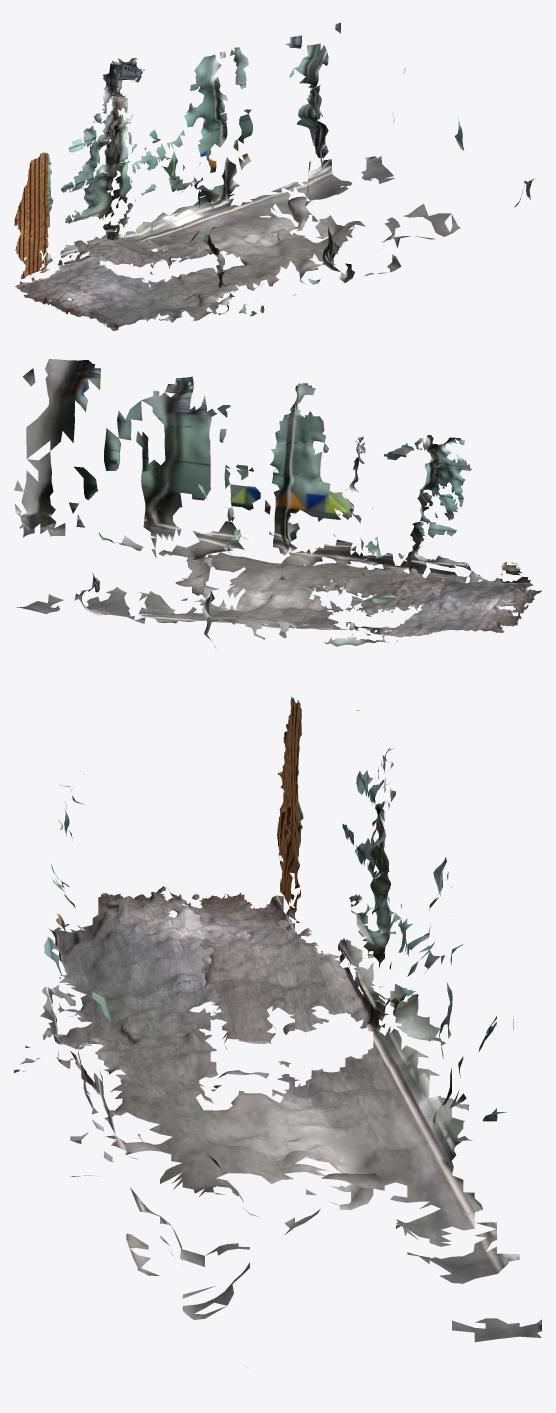
The model's file is 138703-3rdfloor2-tex.glb.
The picture shows the model from 3 angles, top to bottom: view 1: azimuth 30°, elevation 25°; view 2: azimuth 150°, elevation 25°; view 3: azimuth 270°, elevation 25°; orthographic projection. The views are drawn at different scales.
Visible parts, largest first — view 1: Node; view 2: Node; view 3: Node.
Part boxes in pixels (x1=…): Node: x1=14, y1=22, x2=534, y2=330; Node: x1=14, y1=359, x2=541, y2=648; Node: x1=14, y1=696, x2=541, y2=1368.
Size of the model in its own units: 6.85 by 2.83 by 3.3.
Materials: 2 (2 with a texture image).
